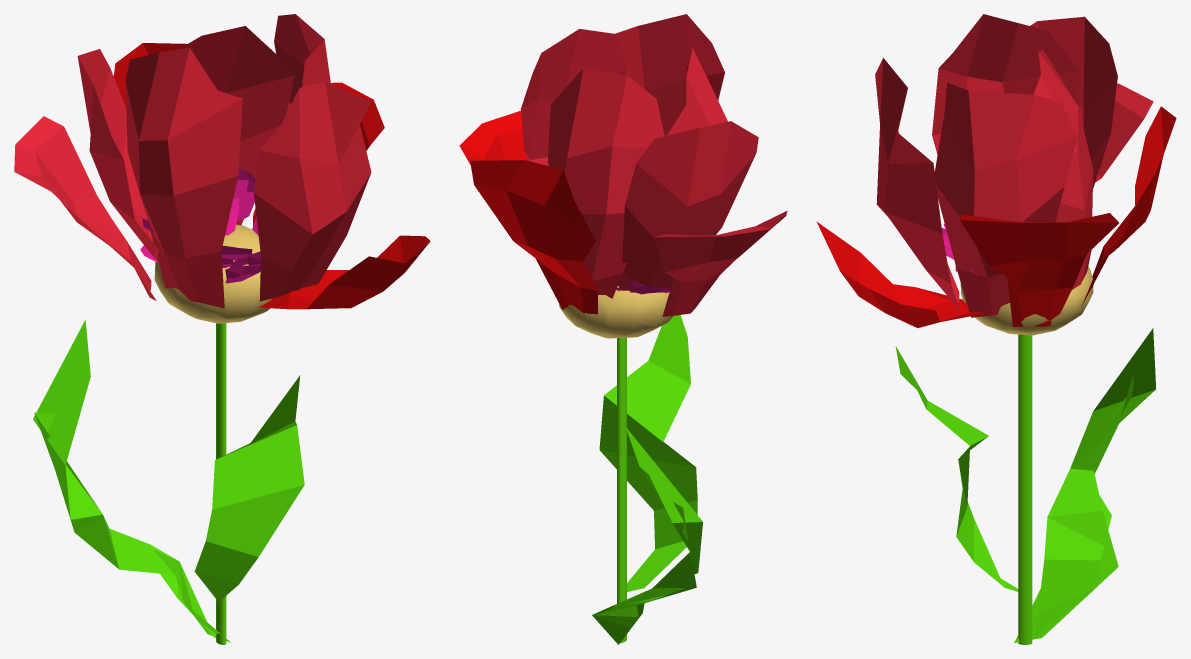
The model's file is flowathird.glb.
The picture shows the model from 3 angles, left to right: view 1: azimuth 30°, elevation 25°; view 2: azimuth 150°, elevation 25°; view 3: azimuth 270°, elevation 25°; orthographic projection. The views are drawn at different scales.
Parts seen in each view (by area): view 1: Plane.006, Plane, Plane.029, Plane.002, Plane.004, Plane.009, Plane.021, Plane.003, Plane.026, keski.001, Plane.001, Cylinder (+3 smaller); view 2: Plane.002, Plane.009, Plane.029, Plane.010, Plane, Plane.001, Plane.004, Plane.021, keski.001, Cylinder, Plane.005, Plane.006 (+1 smaller); view 3: Plane.001, Plane.005, Plane, Plane.006, Plane.021, Plane.026, Plane.009, Plane.003, Cylinder, Plane.002, Plane.029, Plane.010 (+2 smaller).
Boxes of the visible parts, x1,y1,x2,y2 form: Plane.006: [125, 47, 242, 308]; Plane: [253, 82, 371, 301]; Plane.029: [194, 375, 304, 601]; Plane.002: [179, 26, 294, 225]; Plane.004: [14, 116, 156, 300]; Plane.009: [77, 49, 158, 262]; Plane.021: [33, 320, 216, 637]; Plane.003: [258, 235, 430, 309]; Plane.026: [34, 412, 230, 642]; keski.001: [154, 224, 271, 323]; Plane.001: [274, 14, 330, 112]; Cylinder: [216, 323, 226, 644]; Plane.002: [548, 68, 664, 298]; Plane.009: [619, 121, 758, 294]; Plane.029: [599, 315, 697, 591]; Plane.010: [470, 160, 598, 314]; Plane: [615, 14, 724, 135]; Plane.001: [520, 29, 625, 165]; Plane.004: [654, 210, 787, 316]; Plane.021: [592, 427, 702, 640]; keski.001: [559, 286, 673, 338]; Cylinder: [617, 337, 626, 643]; Plane.005: [459, 110, 527, 164]; Plane.006: [667, 48, 727, 135]; Plane.001: [934, 82, 1077, 317]; Plane.005: [960, 213, 1118, 326]; Plane: [875, 57, 959, 315]; Plane.006: [932, 14, 1079, 271]; Plane.021: [1032, 328, 1155, 636]; Plane.026: [1014, 373, 1133, 642]; Plane.009: [1030, 16, 1117, 188]; Plane.003: [816, 221, 996, 327]; Cylinder: [1018, 334, 1032, 644]; Plane.002: [1033, 50, 1093, 289]; Plane.029: [895, 346, 1018, 591]; Plane.010: [1081, 106, 1176, 307].
Size of the model in its own units: 7.85 by 14.05 by 7.59.
